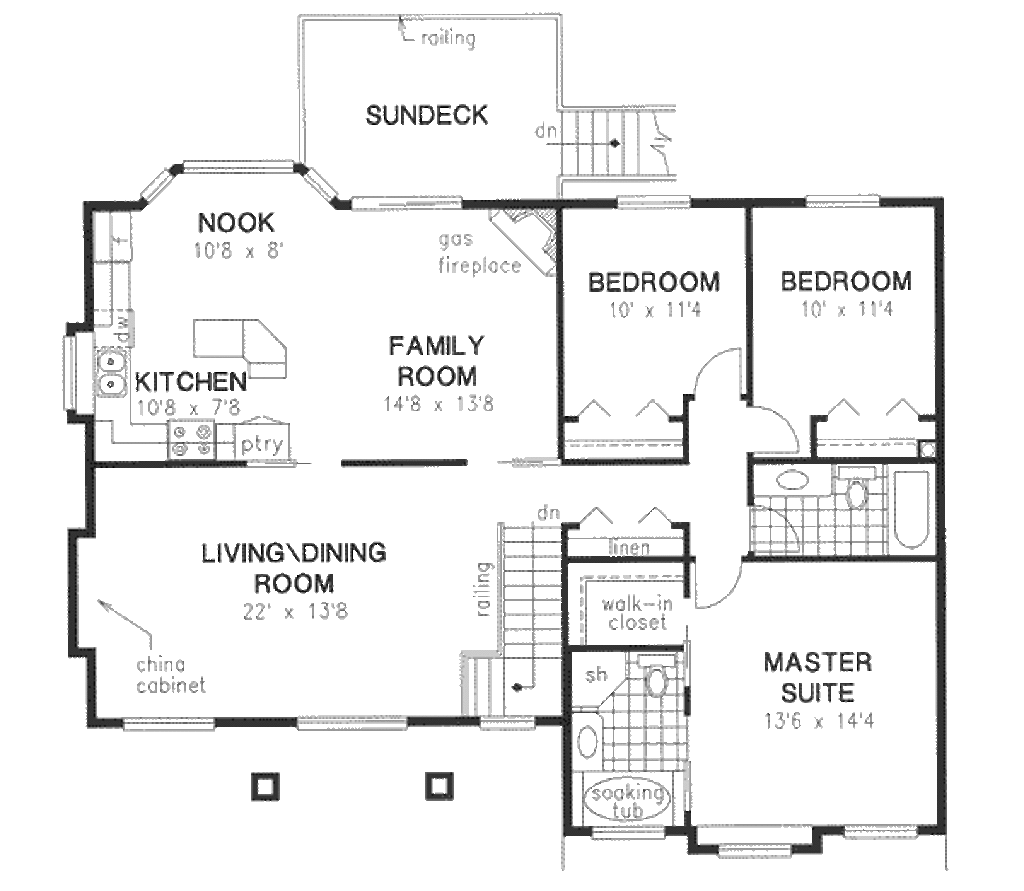door: (685, 345, 750, 401), (749, 494, 807, 553), (688, 557, 744, 607), (752, 404, 804, 454)
large_sink: (627, 641, 682, 712), (837, 458, 883, 514)
small_sink: (749, 462, 844, 495), (570, 710, 603, 770)
stairs: (455, 514, 566, 713), (541, 106, 689, 185)
tub: (889, 459, 940, 558)
twin_sink: (93, 340, 130, 401)
window: (115, 710, 223, 738), (349, 192, 471, 215), (178, 153, 293, 177), (57, 335, 83, 418), (711, 839, 800, 862), (299, 713, 414, 729), (606, 193, 701, 209), (801, 193, 888, 209), (841, 823, 924, 838), (479, 715, 541, 732)
